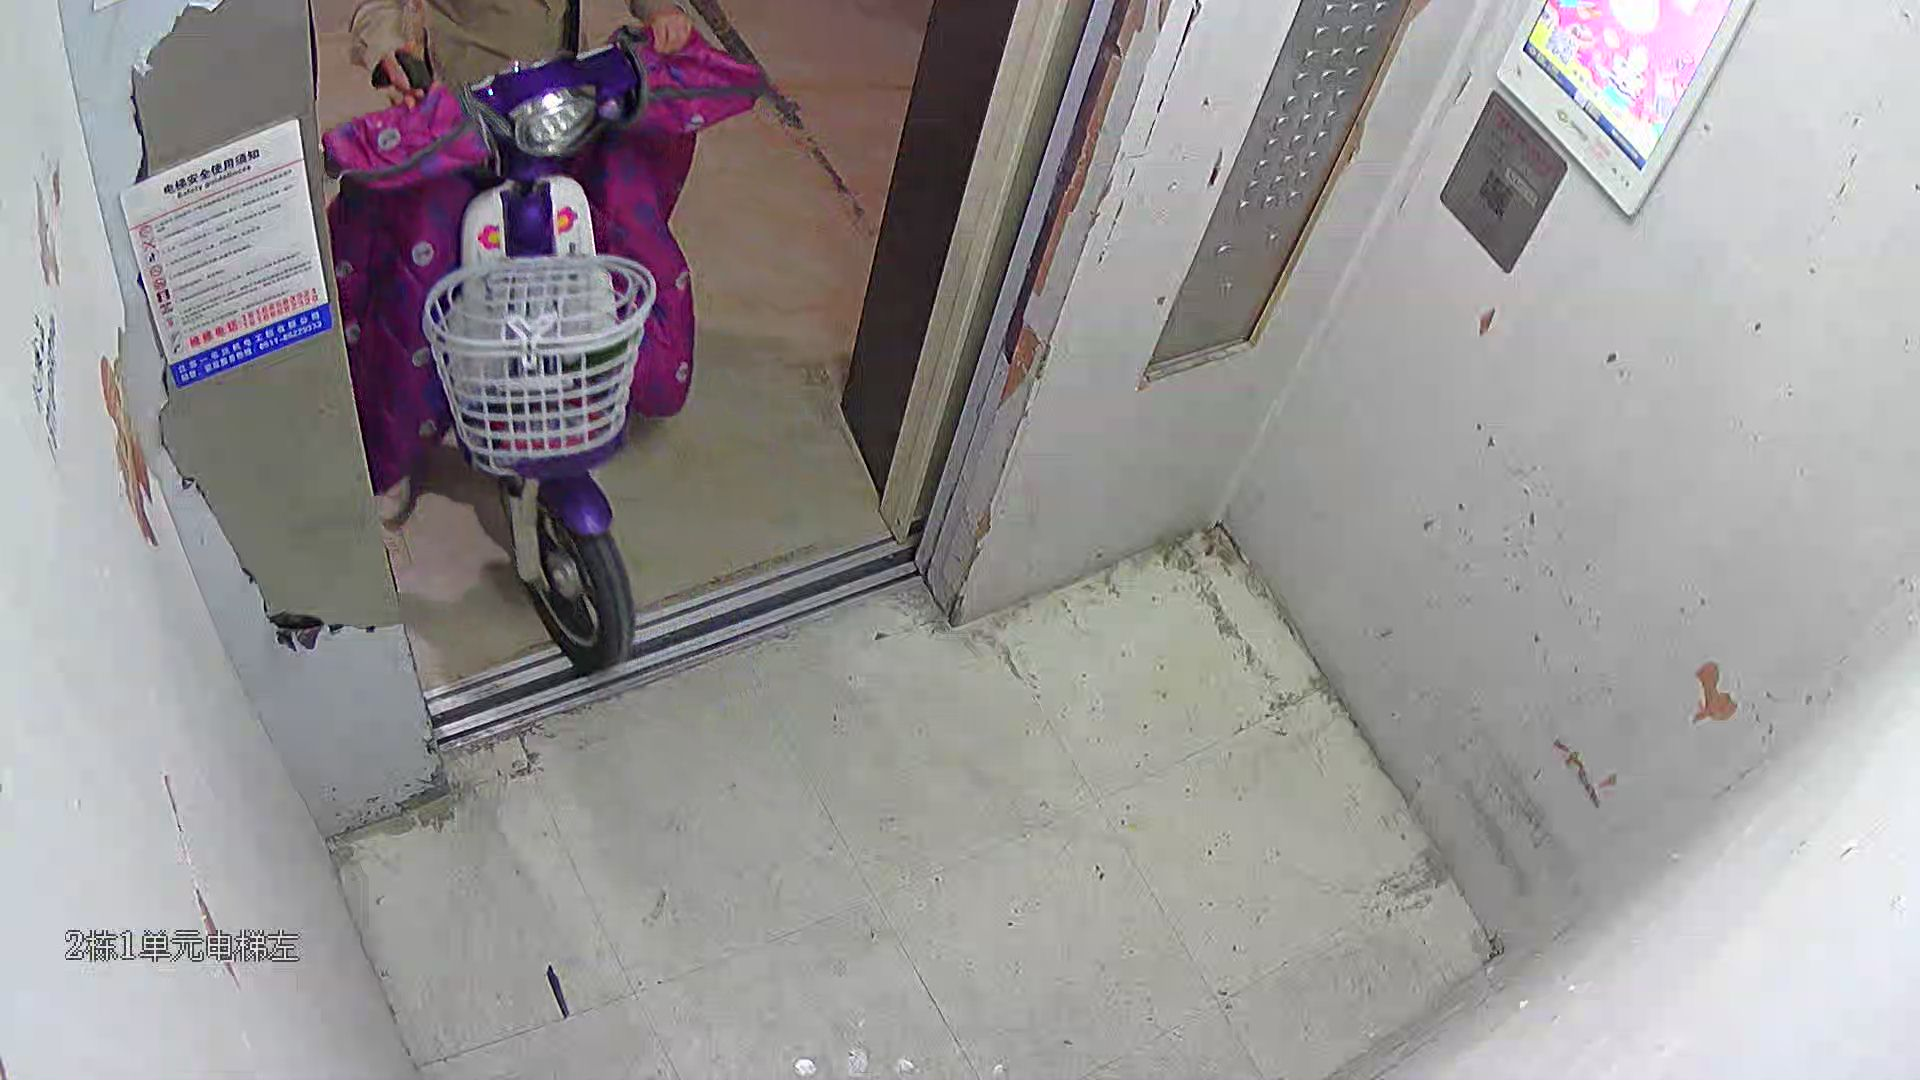Electric-bicycle: (320, 1, 705, 673)
